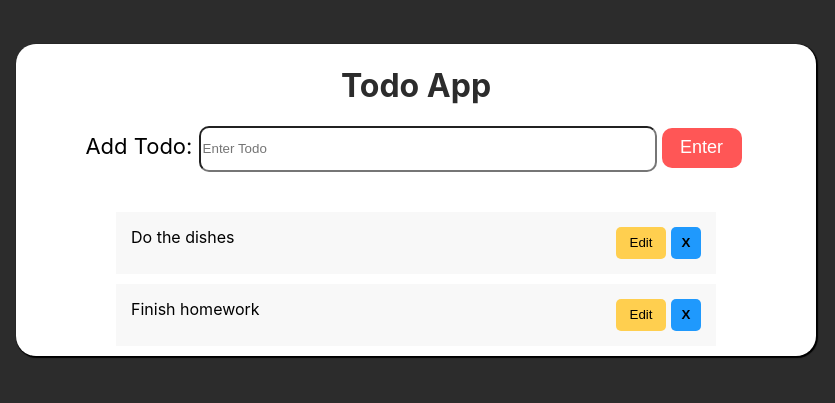
Scenario: Todo App › should display edit input when edit button is clicked
What coordinates should you click on to do the following:
click the button "Edit" in the row of "Do the dishes"
I would click on:
 (641, 243)
Its box is [616,227,666,259].
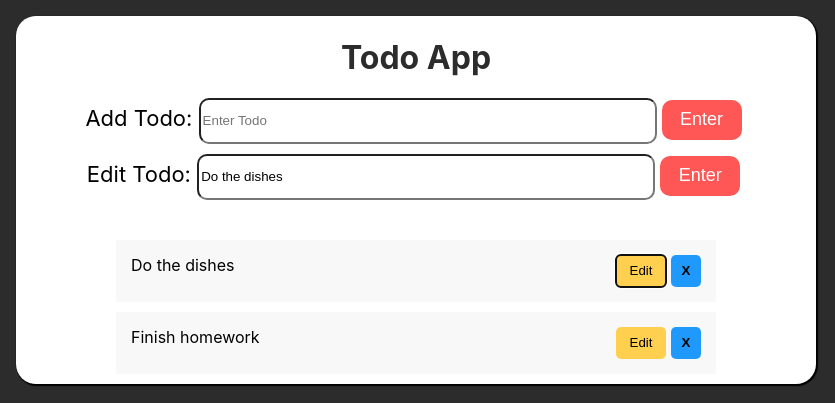
Check: the 2nd field is shown, box [197,154,655,200]
